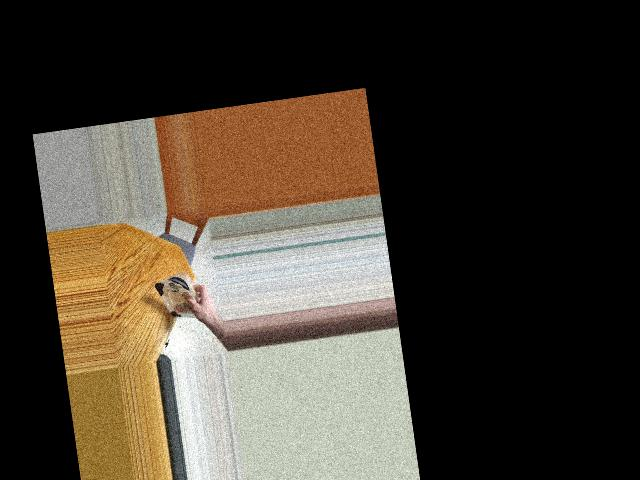cheese: (157, 273, 199, 327)
